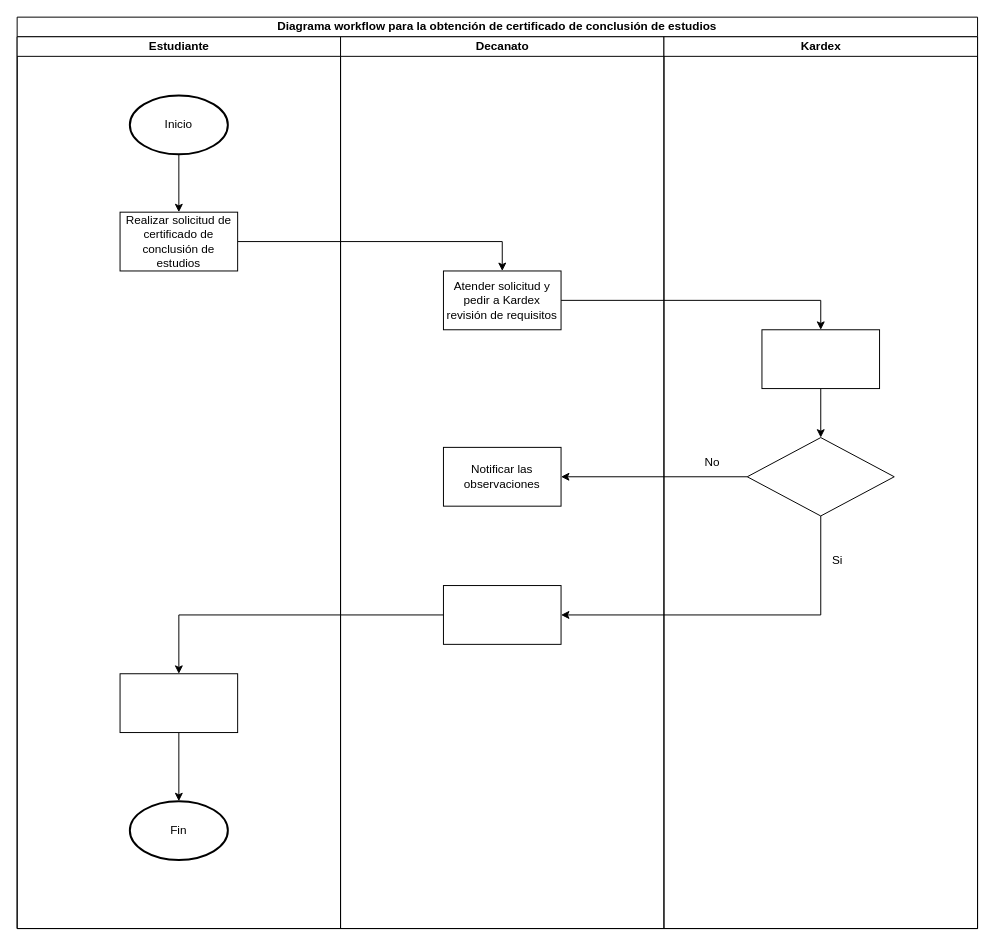
This 995x946 diagram has some shape labels left out. The shapes that lost their labels are listed below. From the top down, each one's box as (x1, y1, x2, y2) in pixels, then its label:
(761, 329, 880, 389): Verificar cumplimiento de requisitos
(746, 437, 894, 516): ¿Cumple?
(442, 585, 561, 644): Extender certificado de conclusión de estudios
(119, 673, 238, 733): Recoger certificado de conclusión de estudios
